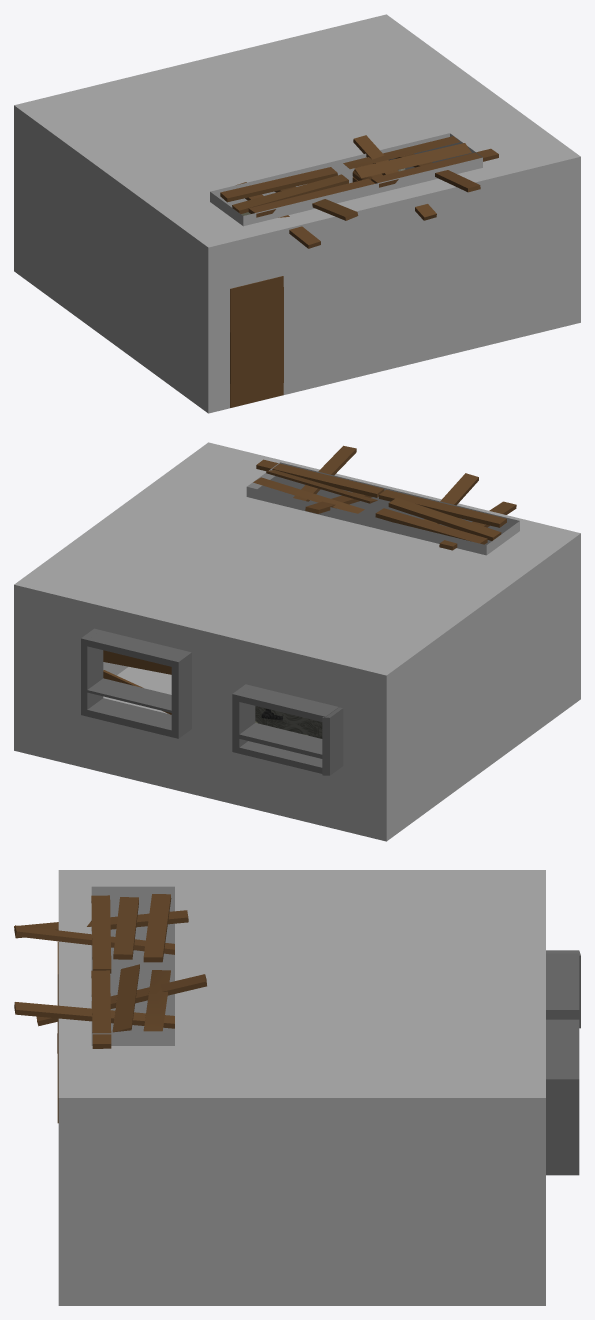
Rendered from blockout.fbx.
3 views of the same model, one above another, from view 1: azimuth 30°, elevation 25°; view 2: azimuth 150°, elevation 25°; view 3: azimuth 270°, elevation 25° (orthographic). The views are drawn at different scales.
Parts seen in each view (by area): view 1: Cube, Cube.029, Cube.024; view 2: Cube, Cube.010, Cube.029, Cube.014, Cube.001, Cube.011; view 3: Cube, Cube.029, Cube.010.
Boxes of the visible parts, x1,y1,x2,y2 form: Cube: (14,14,580,413); Cube.029: (220,135,498,248); Cube.024: (230,276,283,407); Cube: (14,442,580,841); Cube.010: (81,628,343,775); Cube.029: (253,445,516,550); Cube.014: (255,706,322,738); Cube.001: (255,706,321,738); Cube.011: (103,650,171,714); Cube: (58,870,545,1305); Cube.029: (14,894,206,1048); Cube.010: (546,950,580,1175).
Bounding box in the file's own units: 1101 × 530 × 1158.
